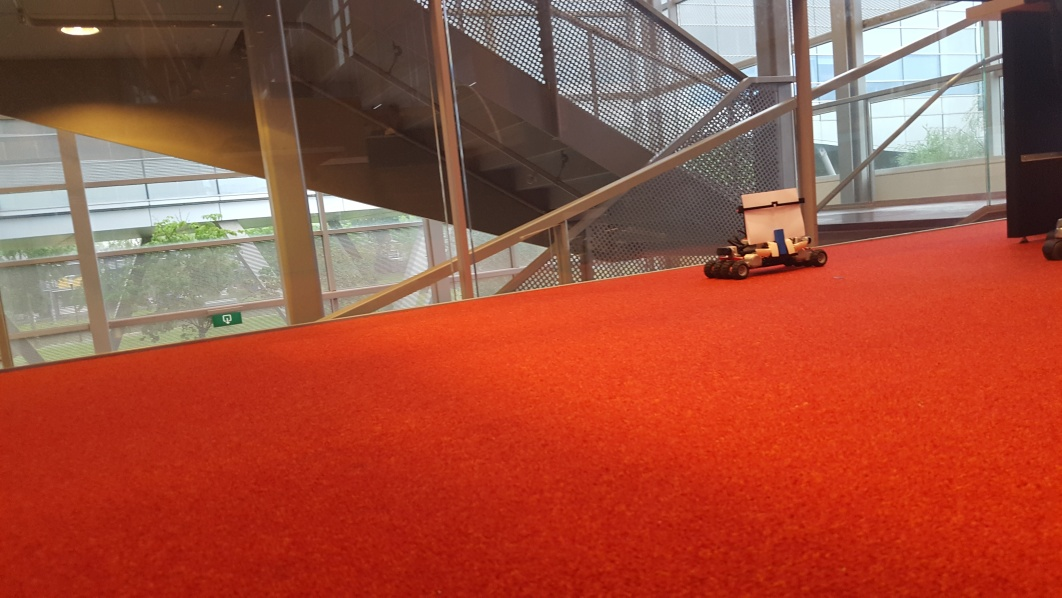car: (703, 189, 828, 280)
